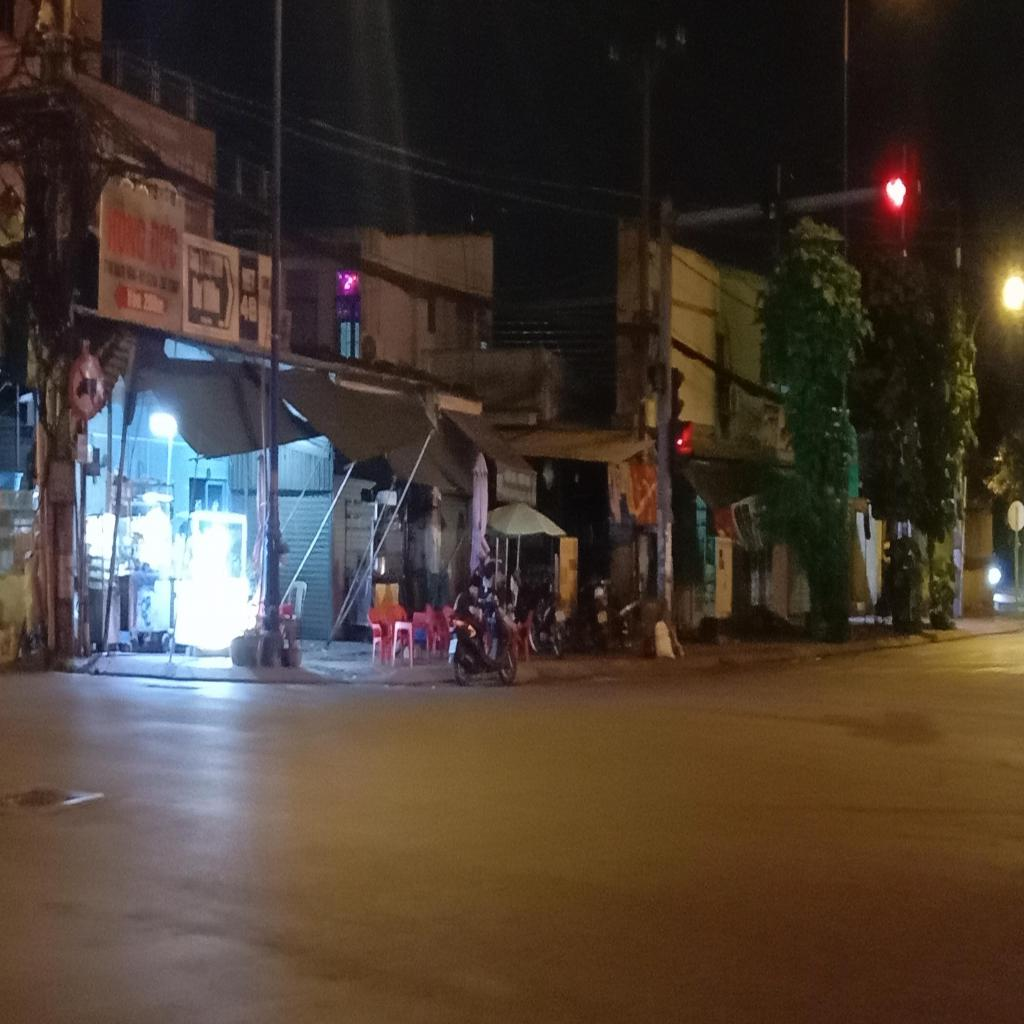cam_o_to_tai: (67, 352, 105, 420)
